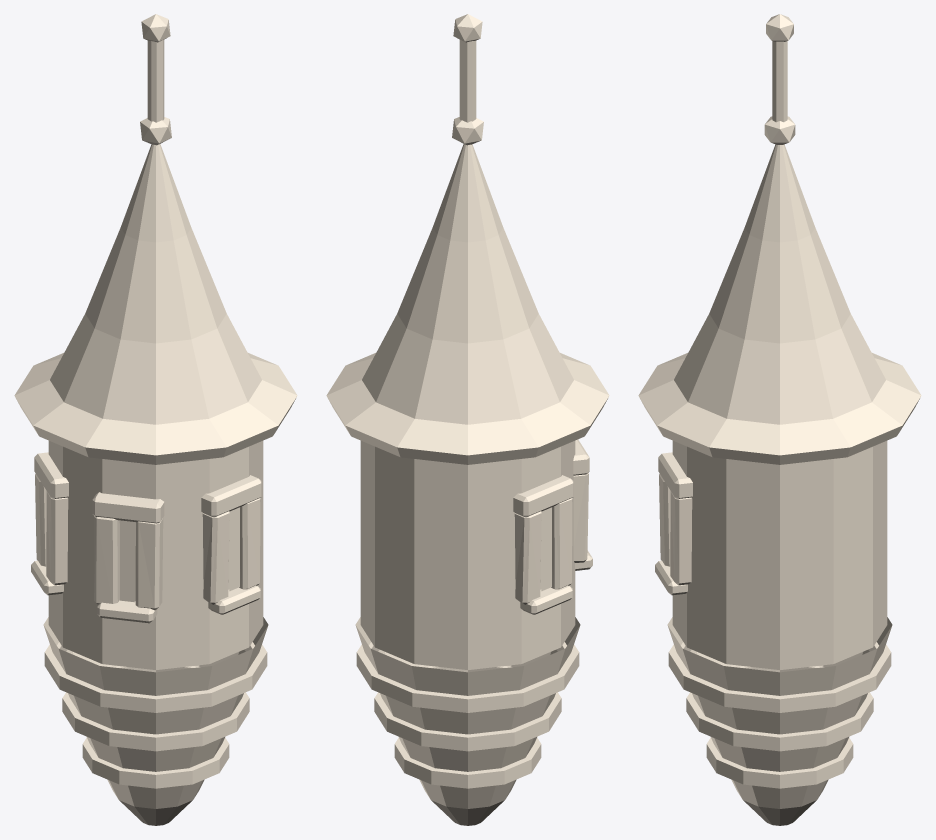
The model's file is SM_VK_Def_Bartizan.fbx.
3 views of the same model, side by side, from view 1: azimuth 30°, elevation 25°; view 2: azimuth 150°, elevation 25°; view 3: azimuth 270°, elevation 25° (orthographic).
Parts seen in each view (by area): view 1: SM_VK_Def_Bartizan.001; view 2: SM_VK_Def_Bartizan.001; view 3: SM_VK_Def_Bartizan.001.
Boxes of the visible parts, <box> form: SM_VK_Def_Bartizan.001: <box>14,14,297,825</box>; SM_VK_Def_Bartizan.001: <box>326,14,609,825</box>; SM_VK_Def_Bartizan.001: <box>638,14,921,825</box>.
Bounding box in the file's own units: 2.24 × 7.03 × 2.24.
